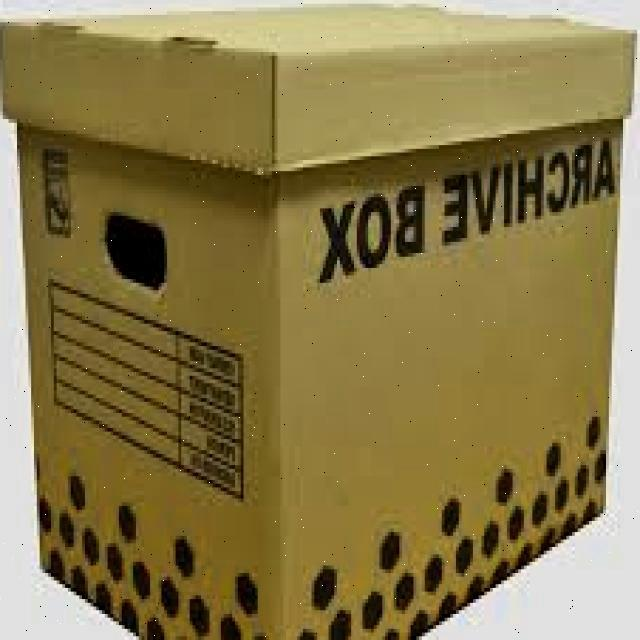box: (1, 3, 640, 640)
normal_hole: (103, 209, 168, 293)
